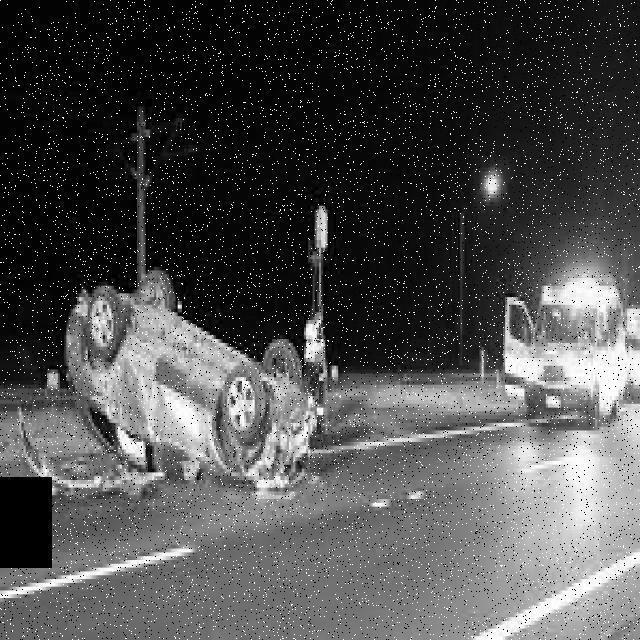accident: (64, 267, 317, 496)
vehicle: (502, 271, 630, 434)
